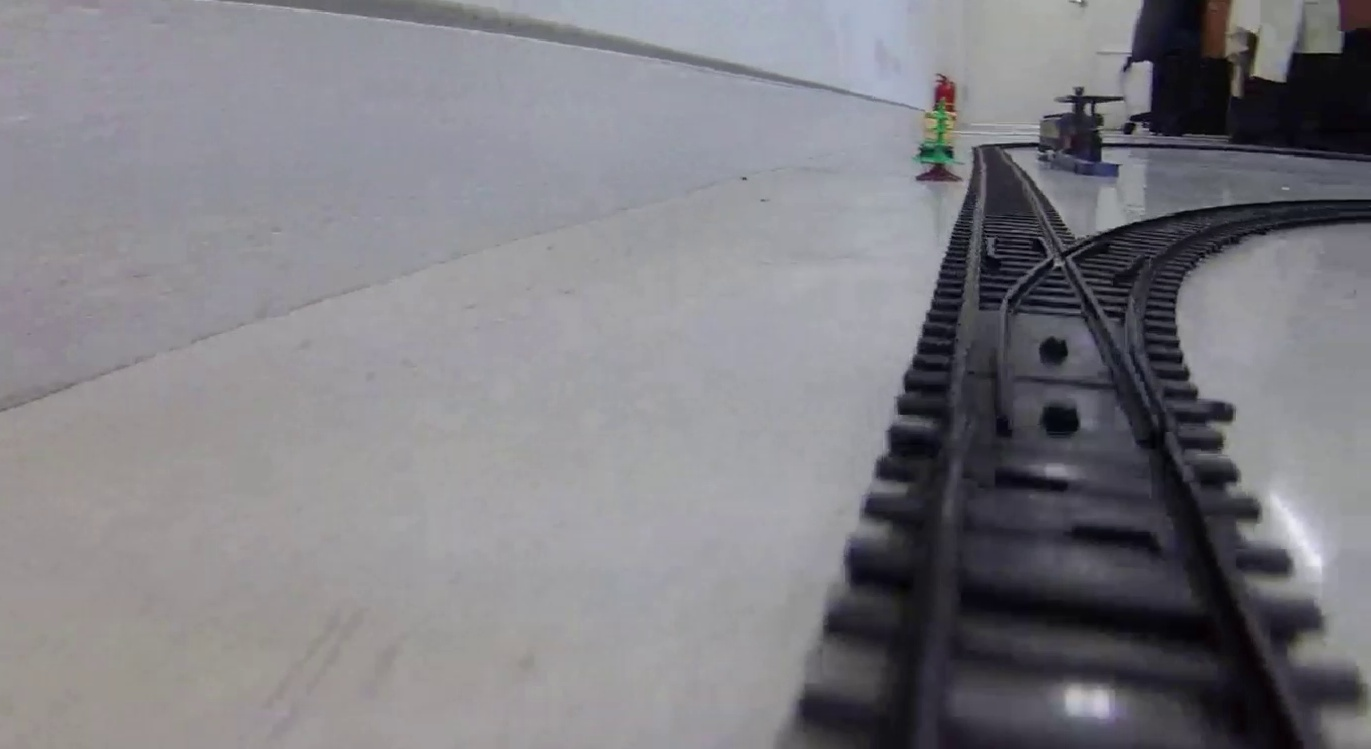tree: (920, 96, 959, 183)
